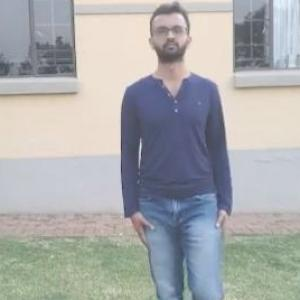follow: (118, 11, 229, 279)
